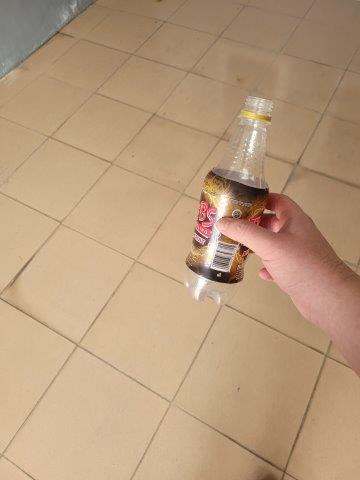botolplastik: (183, 98, 274, 297)
